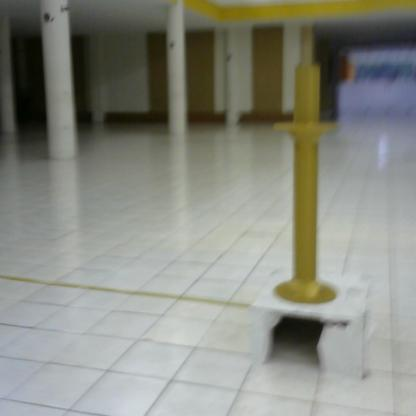pole: (270, 53, 343, 312)
